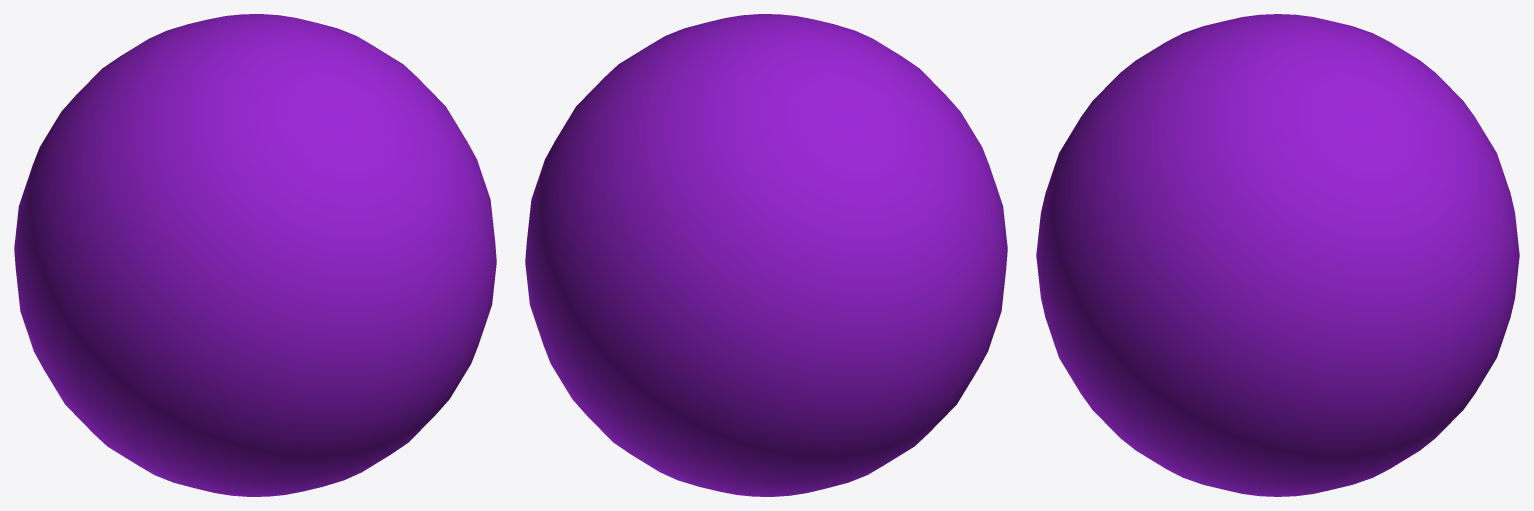
The model's file is WispV1_Agre.fbx.
3 renders of one model, left to right at view 1: azimuth 30°, elevation 25°; view 2: azimuth 150°, elevation 25°; view 3: azimuth 270°, elevation 25°, orthographic.
Parts seen in each view (by area): view 1: WispV1_Passive; view 2: WispV1_Passive; view 3: WispV1_Passive.
Part boxes in pixels (x1,y1,x2,y2): WispV1_Passive: (14, 14, 496, 496); WispV1_Passive: (525, 14, 1007, 496); WispV1_Passive: (1036, 14, 1519, 496).
Bounding box in the file's own units: 50 × 50 × 50.
